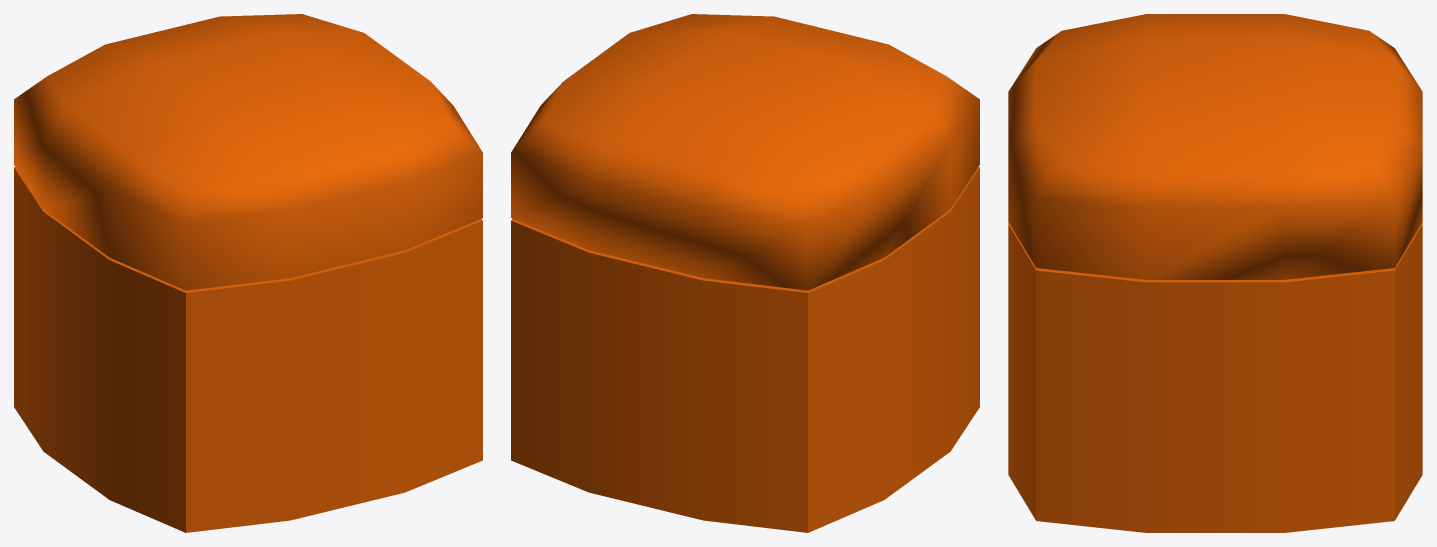
Rendered from Chest.fbx.
3 views of the same model, side by side, from view 1: azimuth 30°, elevation 25°; view 2: azimuth 150°, elevation 25°; view 3: azimuth 270°, elevation 25° (orthographic). The views are drawn at different scales.
Parts seen in each view (by area): view 1: polySurface9, polySurface11; view 2: polySurface9, polySurface11; view 3: polySurface9, polySurface11.
Part boxes in pixels (x1,y1,x2,y2): polySurface9: [14, 167, 482, 532]; polySurface11: [14, 14, 482, 290]; polySurface9: [511, 167, 979, 532]; polySurface11: [511, 14, 979, 290]; polySurface9: [1008, 222, 1422, 532]; polySurface11: [1008, 14, 1422, 279].
Size of the model in its own units: 1 by 1.01 by 1.
